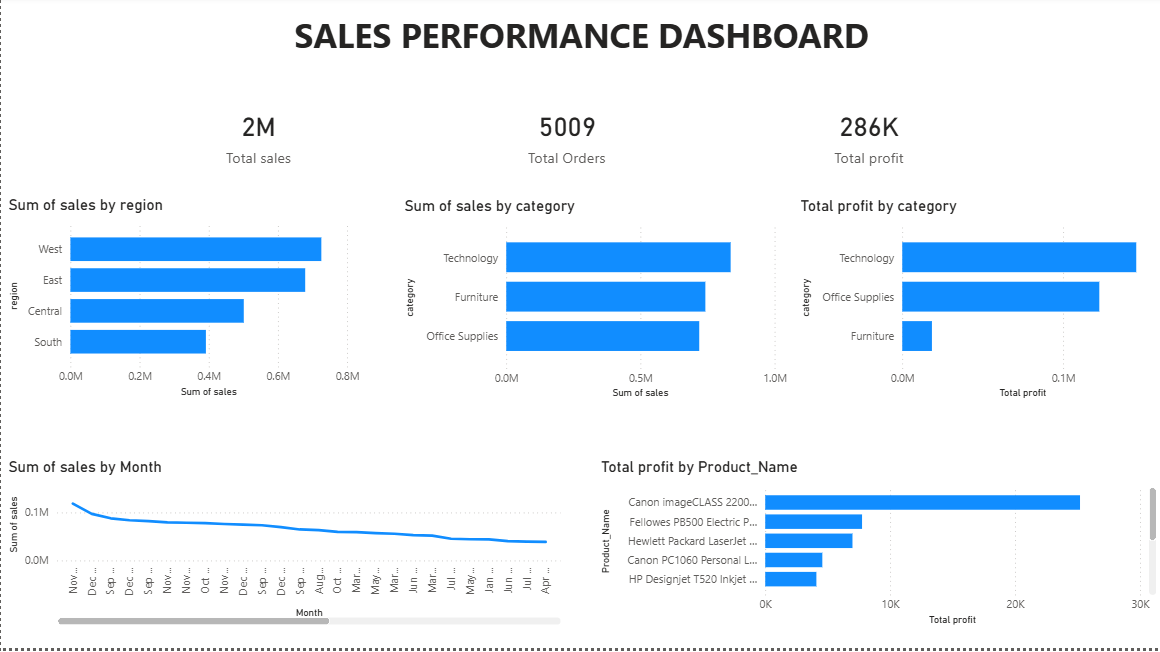

Layout of this report page (visuals, bound fields, positions):
{"tool":"powerbi","page":{"name":"Page 1","canvas":[1280,720],"ordinal":0},"visuals":[{"type":"card","fields":{"Values":["SALES POWER-BI(SQL-BI).Total Orders"]},"box":[485,109.3,278.3,87.8],"z":0},{"type":"card","fields":{"Values":["SALES POWER-BI(SQL-BI).Total profit"]},"box":[818,109.3,279.9,87.8],"z":1000},{"type":"card","fields":{"Values":["SALES POWER-BI(SQL-BI).Total sales"]},"box":[143.8,109.3,279.9,87.8],"z":2000},{"type":"barChart","fields":{"Category":["SALES POWER-BI(SQL-BI).region"],"Y":["Sum(SALES POWER-BI(SQL-BI).sales)"]},"box":[3.3,220.3,397.6,226.9],"z":3000},{"type":"barChart","fields":{"Category":["SALES POWER-BI(SQL-BI).category"],"Y":["Sum(SALES POWER-BI(SQL-BI).sales)"]},"box":[440.6,222,432.3,226.9],"z":4000},{"type":"lineChart","fields":{"Category":["SALES POWER-BI(SQL-BI).Month"],"Y":["Sum(SALES POWER-BI(SQL-BI).sales)"]},"box":[3.3,510.2,619.5,188.8],"z":5000},{"type":"barChart","fields":{"Category":["SALES POWER-BI(SQL-BI).category"],"Y":["SALES POWER-BI(SQL-BI).Total profit"]},"box":[877.9,222,402.5,226.9],"z":6000},{"type":"barChart","fields":{"Y":["SALES POWER-BI(SQL-BI).Total profit"],"Category":["SALES POWER-BI(SQL-BI).Product_Name"]},"box":[657.6,510.2,622.8,188.8],"z":7000},{"type":"textbox","box":[202.1,11.6,877.9,61.3],"z":8000}]}

Visuals, with their boxes in screenshot pixels (x1, y1, x2, y2), scaled from the page's 1280x720 canvas onto the 1160x652 screenshot:
card - SALES POWER-BI(SQL-BI).Total Orders: region(440, 99, 692, 178)
card - SALES POWER-BI(SQL-BI).Total profit: region(741, 99, 995, 178)
card - SALES POWER-BI(SQL-BI).Total sales: region(130, 99, 384, 178)
barChart - SALES POWER-BI(SQL-BI).region x Sum(SALES POWER-BI(SQL-BI).sales): region(3, 199, 363, 405)
barChart - SALES POWER-BI(SQL-BI).category x Sum(SALES POWER-BI(SQL-BI).sales): region(399, 201, 791, 407)
lineChart - SALES POWER-BI(SQL-BI).Month x Sum(SALES POWER-BI(SQL-BI).sales): region(3, 462, 564, 633)
barChart - SALES POWER-BI(SQL-BI).category x SALES POWER-BI(SQL-BI).Total profit: region(796, 201, 1159, 407)
barChart - SALES POWER-BI(SQL-BI).Total profit x SALES POWER-BI(SQL-BI).Product_Name: region(596, 462, 1159, 633)
textbox: region(183, 11, 979, 66)
